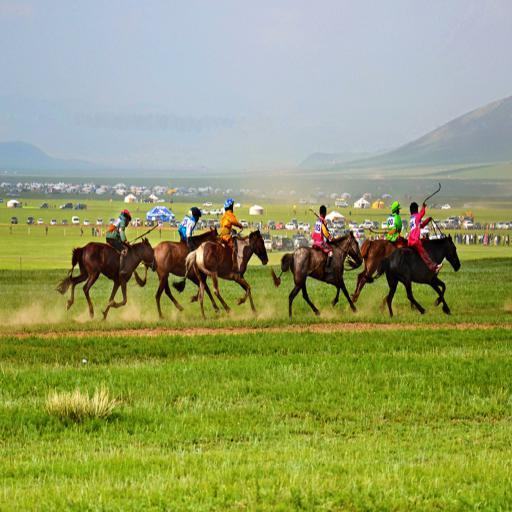horse: (57, 234, 158, 321), (183, 224, 270, 322), (281, 227, 363, 319), (374, 232, 460, 318), (152, 224, 220, 322), (354, 233, 431, 304)
